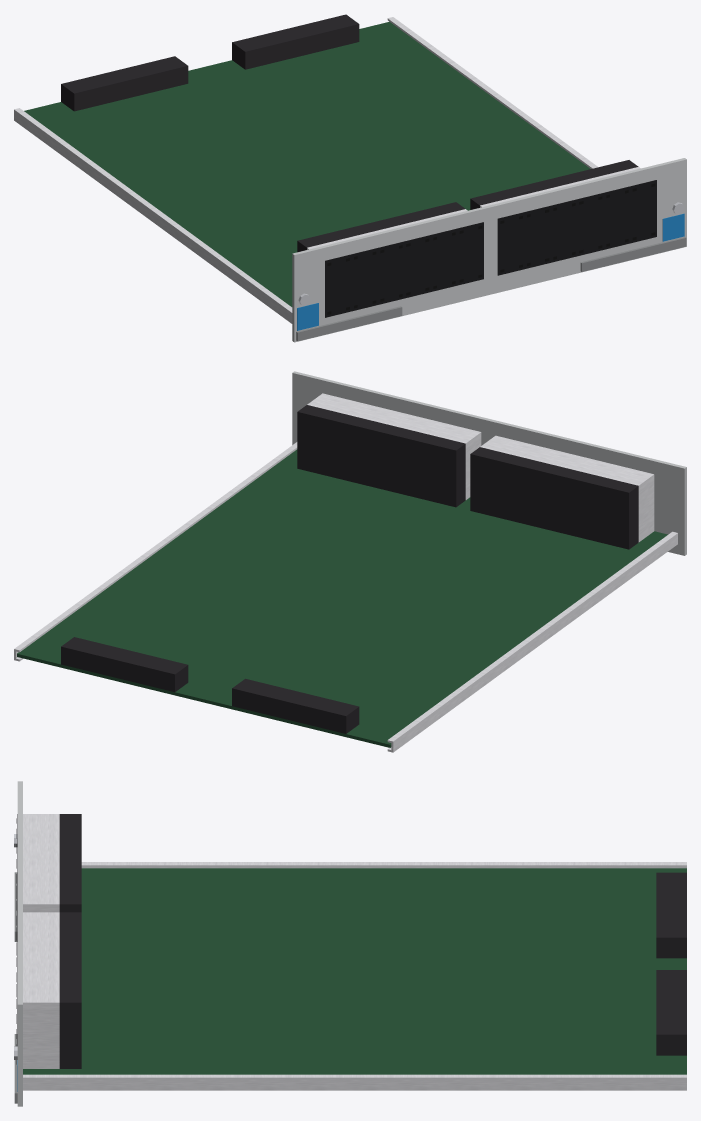
Rendered from J9987A.far.glb.
3 renders of one model, top to bottom at view 1: azimuth 30°, elevation 25°; view 2: azimuth 150°, elevation 25°; view 3: azimuth 270°, elevation 25°, orthographic. The views are drawn at different scales.
Parts seen in each view (by area): view 1: Module_far; view 2: Module_far; view 3: Module_far.
Boxes of the visible parts, x1,y1,x2,y2 form: Module_far: (14, 14, 686, 342); Module_far: (14, 371, 686, 752); Module_far: (14, 781, 686, 1106).
Size of the model in its own units: 0.2065 by 0.0439 by 0.2631.
Materials: 3 (2 with a texture image).
